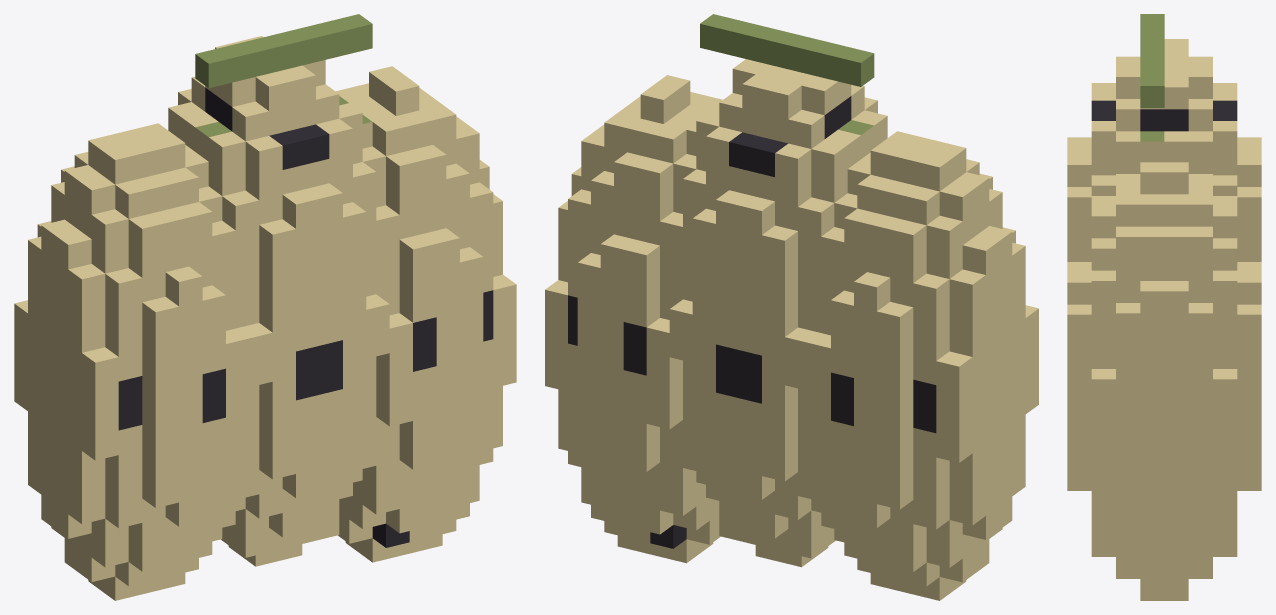
The model's file is horo_horo.glb.
3 views of the same model, side by side, from view 1: azimuth 30°, elevation 25°; view 2: azimuth 150°, elevation 25°; view 3: azimuth 270°, elevation 25° (orthographic). The views are drawn at different scales.
Visible parts, largest first — view 1: akuma_horo_horo; view 2: akuma_horo_horo; view 3: akuma_horo_horo.
Boxes of the visible parts, box(x1,y1,x2,y2) form: akuma_horo_horo: box(14, 14, 516, 600); akuma_horo_horo: box(545, 14, 1038, 600); akuma_horo_horo: box(1067, 14, 1261, 600).
Bounding box in the file's own units: 0.468 × 0.572 × 0.208.
Materials: 1 (1 with a texture image).
